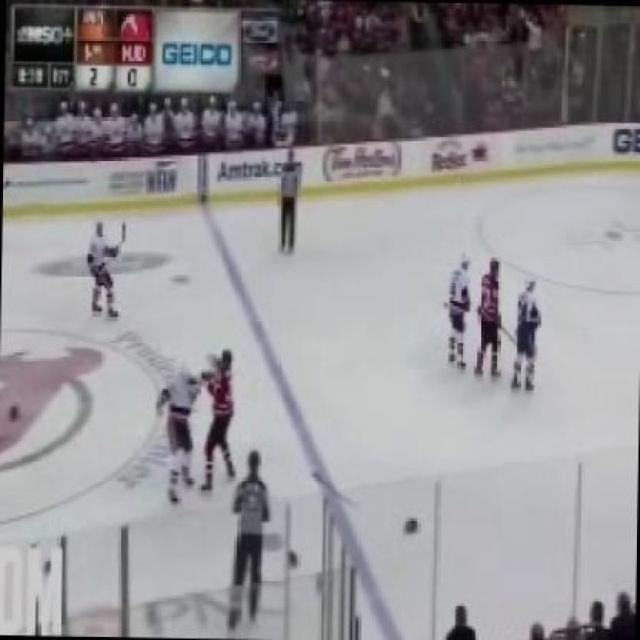fight: (153, 344, 240, 505)
non-fight: (508, 277, 544, 394), (83, 222, 123, 318)
